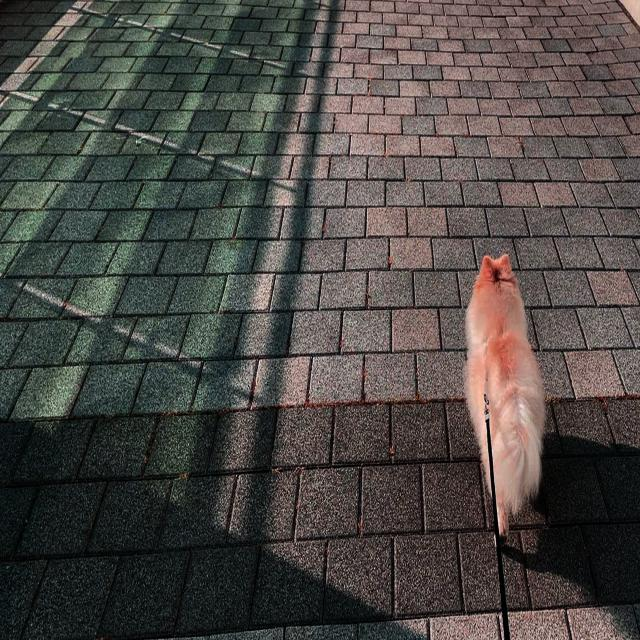Dog: (464, 252, 546, 550)
